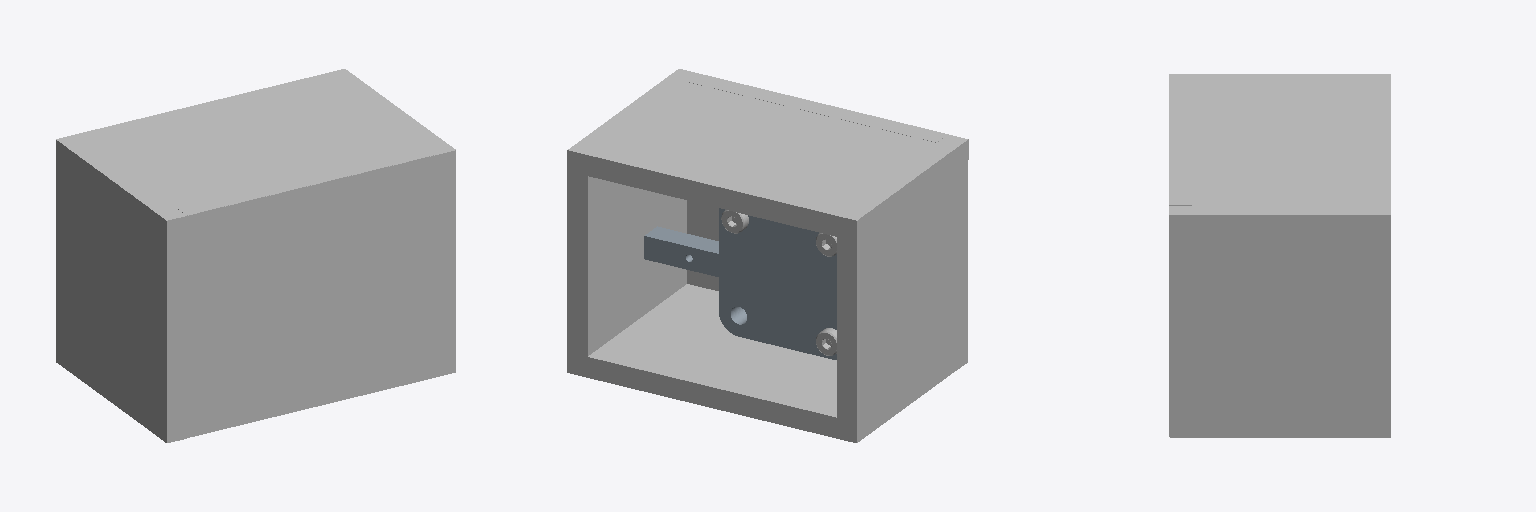
The model's file is HookAssembly.obj.
The picture shows the model from 3 angles: view 1: azimuth 30°, elevation 25°; view 2: azimuth 150°, elevation 25°; view 3: azimuth 270°, elevation 25°; orthographic projection.
Parts seen in each view (by area): view 1: Cube_Cube.001; view 2: Cube_Cube.001, Untitled.001_ID2.001, Untitled_ID2; view 3: Cube_Cube.001.
Part boxes in pixels (bbox=[...]): Cube_Cube.001: bbox=[56, 69, 455, 442]; Cube_Cube.001: bbox=[567, 69, 968, 442]; Untitled.001_ID2.001: bbox=[719, 208, 836, 359]; Untitled_ID2: bbox=[644, 226, 718, 276]; Cube_Cube.001: bbox=[1169, 74, 1390, 437].
Size of the model in its own units: 0.6573 by 0.4835 by 0.4379.